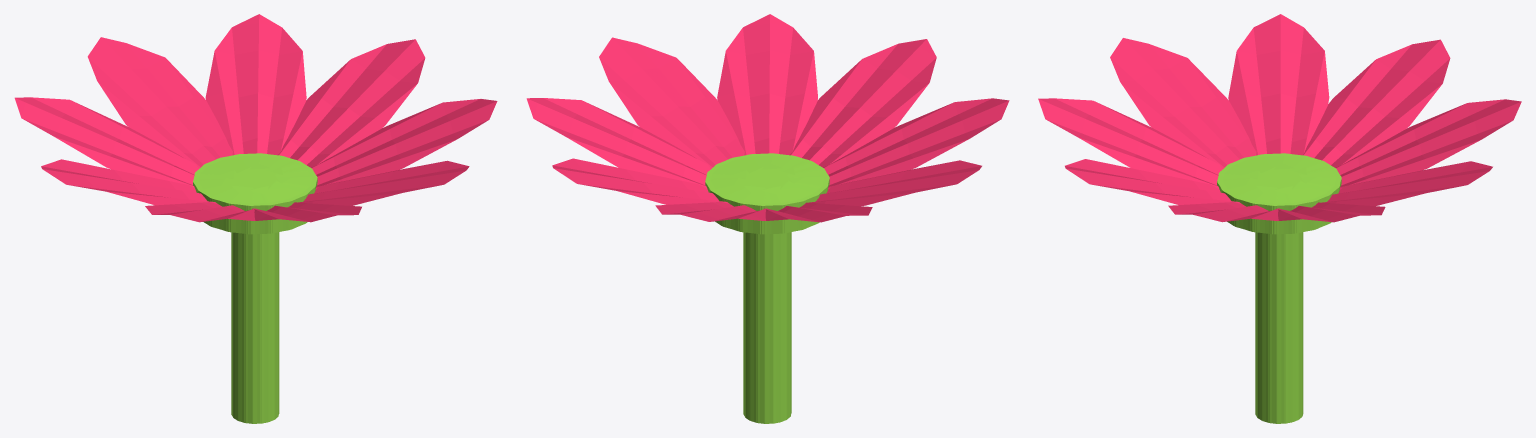
Rendered from Flower.fbx.
3 views of the same model, side by side, from view 1: azimuth 30°, elevation 25°; view 2: azimuth 150°, elevation 25°; view 3: azimuth 270°, elevation 25° (orthographic).
Parts seen in each view (by area): view 1: Circle.001; view 2: Circle.001; view 3: Circle.001.
Part boxes in pixels (x1=…): Circle.001: x1=14, y1=14, x2=497, y2=423; Circle.001: x1=526, y1=14, x2=1009, y2=423; Circle.001: x1=1038, y1=14, x2=1521, y2=423.
Bounding box in the file's own units: 709 × 485 × 718.
